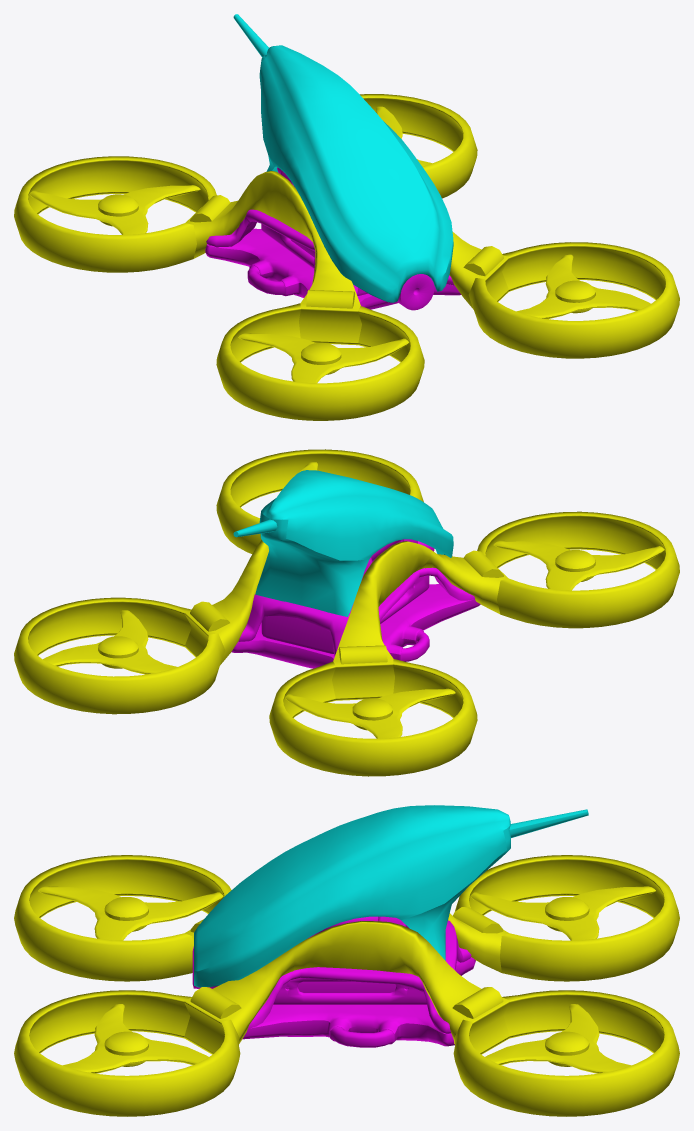
File: Drone_04.fbx
3 views of the same model, one above another, from view 1: azimuth 30°, elevation 25°; view 2: azimuth 150°, elevation 25°; view 3: azimuth 270°, elevation 25° (orthographic). The views are drawn at different scales.
Parts seen in each view (by area): view 1: Arms, Shell_04, Bodywork4, Propeller3_low, Propeller1_low, Propeller2_low, Rotor2_low, Rotor3_low, Rotor1_low; view 2: Arms, Shell_04, Bodywork4, Propeller3_low, Propeller1_low, Propeller4_low, Rotor4_low, Rotor3_low, Rotor1_low; view 3: Arms, Shell_04, Bodywork4, Propeller3_low, Propeller1_low, Propeller4_low, Propeller2_low, Rotor4_low, Rotor2_low, Rotor3_low, Rotor1_low.
Boxes of the visible parts, left/top/right/bottom form: Arms: left=14, top=94, right=679, bottom=420; Shell_04: left=233, top=14, right=453, bottom=302; Bodywork4: left=205, top=167, right=461, bottom=310; Propeller3_low: left=29, top=185, right=200, bottom=234; Propeller1_low: left=238, top=333, right=408, bottom=383; Propeller2_low: left=516, top=254, right=650, bottom=318; Rotor2_low: left=555, top=280, right=595, bottom=313; Rotor3_low: left=98, top=194, right=138, bottom=226; Rotor1_low: left=301, top=342, right=341, bottom=374; Arms: left=14, top=449, right=679, bottom=776; Shell_04: left=233, top=470, right=453, bottom=616; Bodywork4: left=231, top=539, right=480, bottom=668; Propeller3_low: left=285, top=688, right=455, bottom=738; Propeller1_low: left=493, top=540, right=664, bottom=590; Propeller4_low: left=43, top=610, right=176, bottom=674; Rotor4_low: left=98, top=636, right=138, bottom=668; Rotor3_low: left=352, top=698, right=392, bottom=730; Rotor1_low: left=555, top=550, right=595, bottom=581; Arms: left=14, top=855, right=679, bottom=1116; Shell_04: left=194, top=805, right=588, bottom=987; Bodywork4: left=192, top=916, right=475, bottom=1047; Propeller3_low: left=470, top=886, right=655, bottom=940; Propeller1_low: left=38, top=886, right=223, bottom=940; Propeller4_low: left=485, top=1004, right=630, bottom=1073; Propeller2_low: left=63, top=1004, right=208, bottom=1073; Rotor4_low: left=545, top=1031, right=589, bottom=1066; Rotor2_low: left=104, top=1031, right=148, bottom=1066; Rotor3_low: left=545, top=897, right=589, bottom=931; Rotor1_low: left=104, top=897, right=148, bottom=931.
Bounding box in the file's own units: 39.63 × 16.18 × 48.3.
